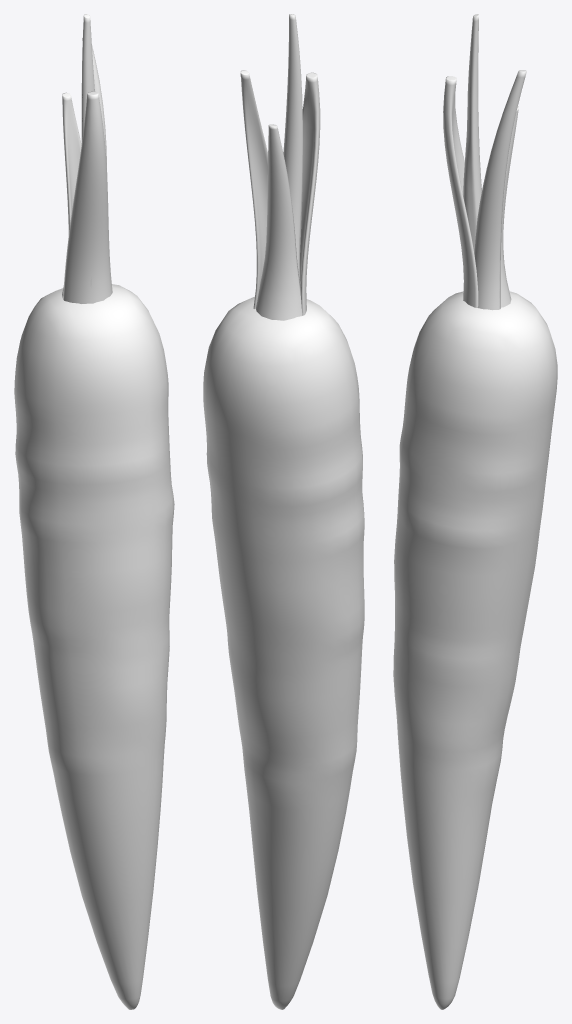
Rendered from export_carrot_animation1.glb.
3 views of the same model, side by side, from view 1: azimuth 30°, elevation 25°; view 2: azimuth 150°, elevation 25°; view 3: azimuth 270°, elevation 25° (orthographic). The views are drawn at different scales.
Visible parts, largest first — view 1: node_id4; view 2: node_id4; view 3: node_id4.
Part boxes in pixels (left/top/right/bottom): node_id4: left=14, top=14, right=174, bottom=1009; node_id4: left=203, top=14, right=364, bottom=1009; node_id4: left=393, top=14, right=557, bottom=1009.
Size of the model in its own units: 0.0914 by 0.6364 by 0.0966.
Materials: 1 (1 with a texture image).
